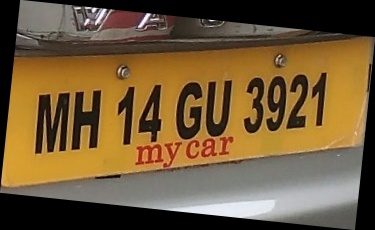character: (34, 91, 70, 155), (71, 88, 102, 153), (174, 80, 203, 141), (204, 78, 233, 138), (137, 82, 162, 144), (285, 73, 308, 130), (242, 75, 264, 134), (266, 75, 288, 133), (116, 85, 136, 147), (309, 70, 328, 127)
